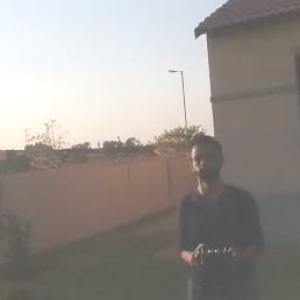follow: (160, 131, 264, 299)
